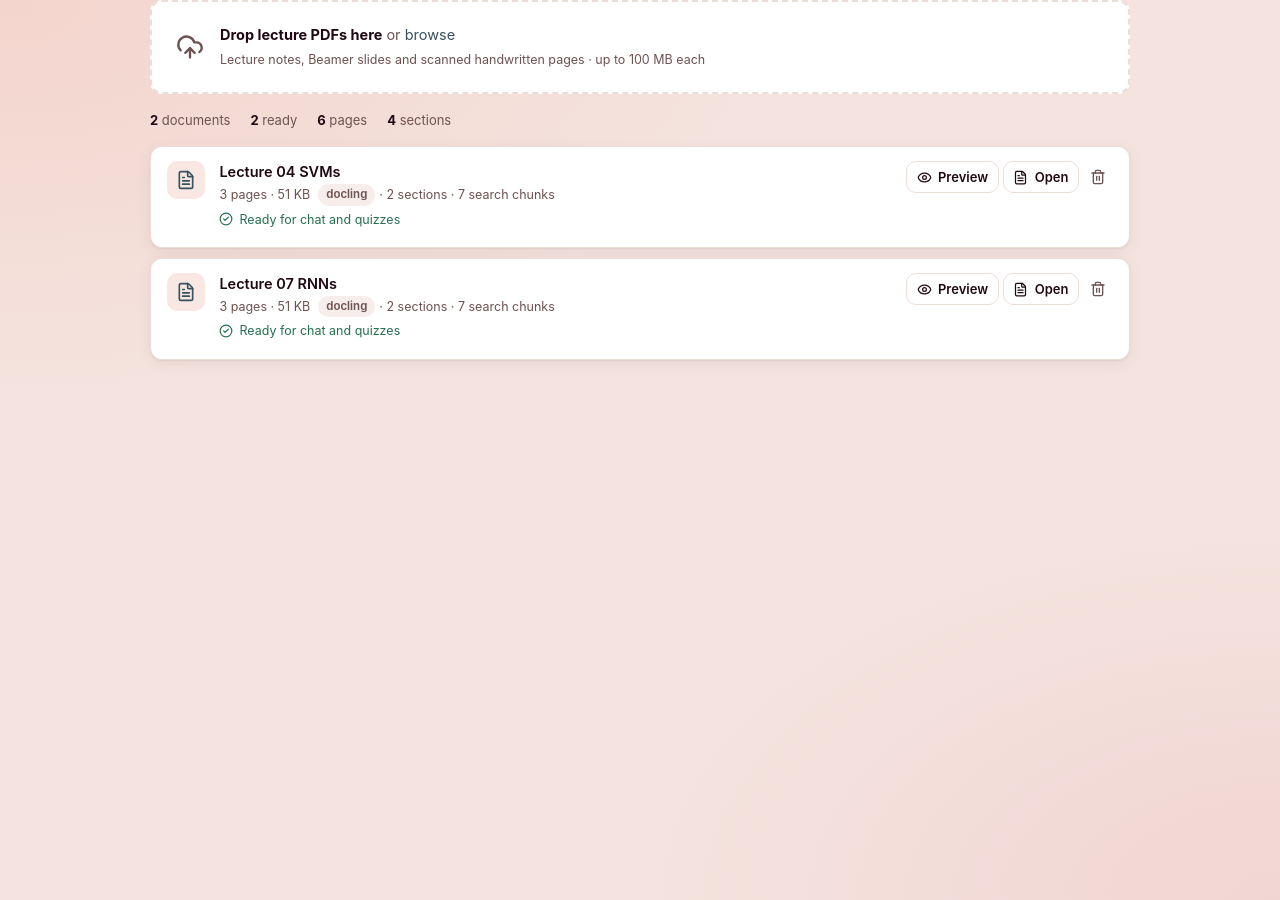
Test: Library › previews extracted markdown with rendered math
Click the button with aria-label "Preview Lecture_04_SVMs.pdf" at (952, 177), box [906,161,999,193]
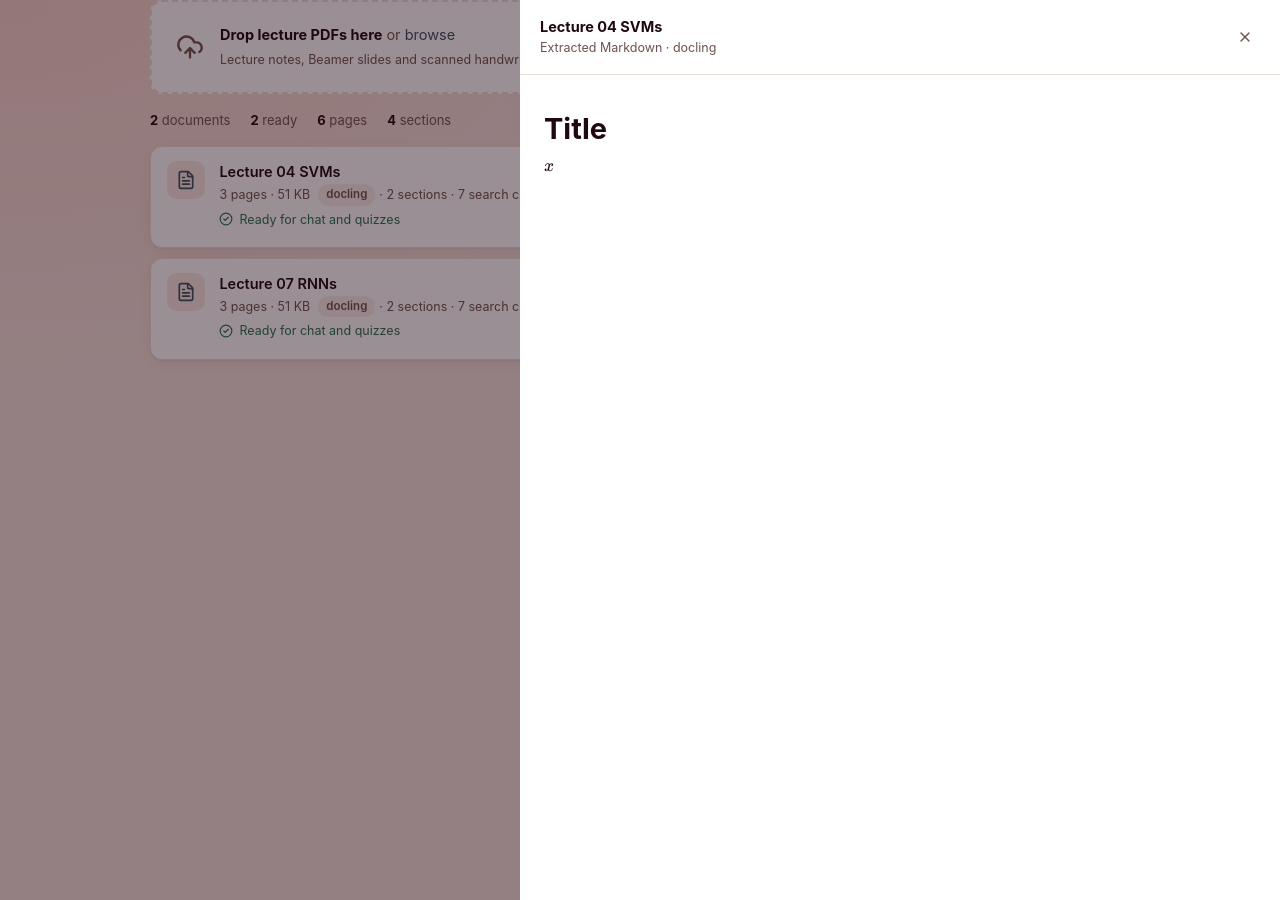
expect the heading "Title" is shown: met, box [544,111,607,146]
expect the element with class "katex" is shown: met, box [544,155,554,176]
Click the button named "Close preview" at (1245, 37), box [1230,22,1260,52]
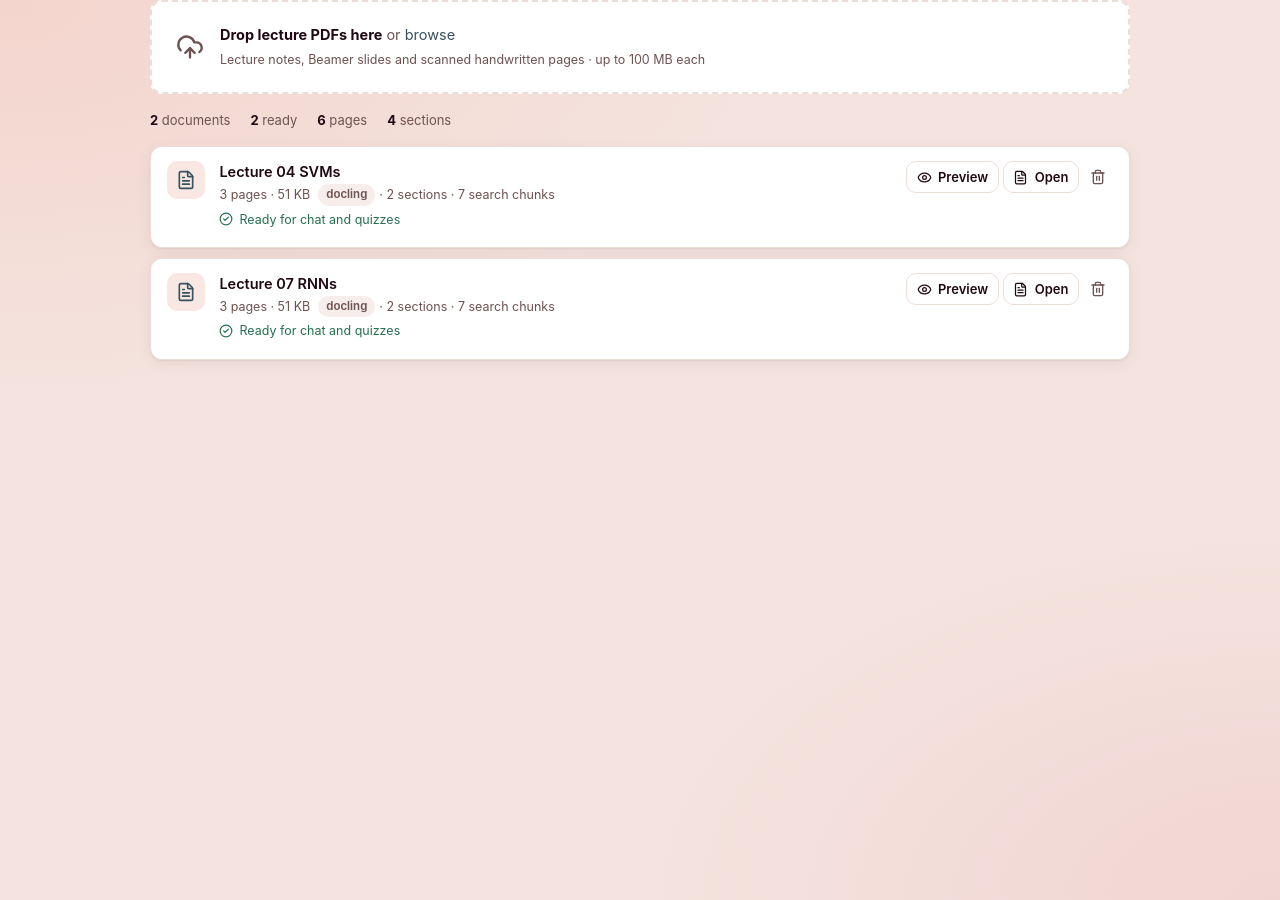
expect the dialog is gone: met
